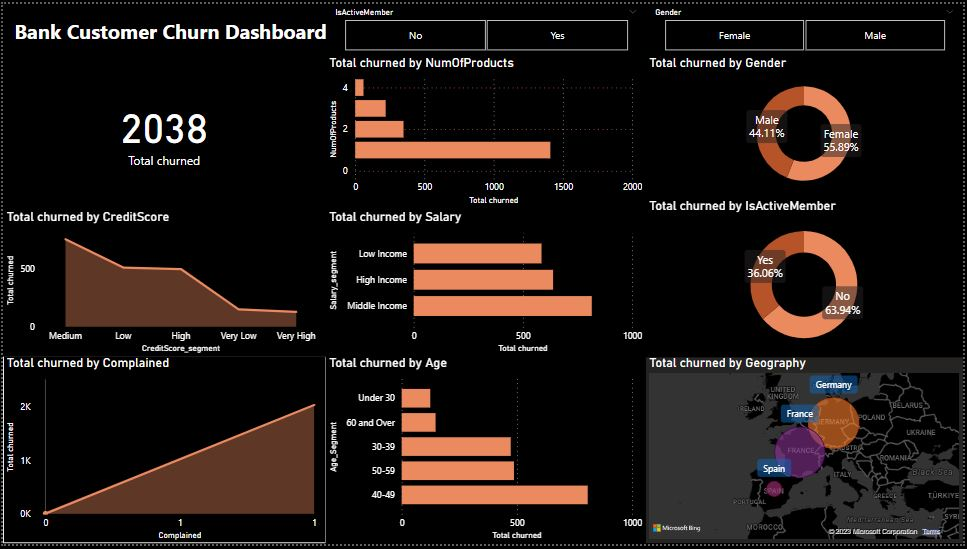

What the dashboard file says about the page in this screenshot:
{"tool":"powerbi","page":{"name":"Bank Customer Churn Dashboard","canvas":[1280,720],"ordinal":0},"visuals":[{"type":"barChart","title":"Total churned by NumOfProducts","fields":{"Category":["customer customer-churn-records.NumOfProducts"],"Y":["Sum(customer customer-churn-records.Exited)"]},"box":[430,68.6,427.1,204.3],"z":0},{"type":"card","fields":{"Values":["Sum(customer customer-churn-records.Exited)"]},"box":[0,68.6,430,204.3],"z":1000},{"type":"map","title":"Total churned by Geography","fields":{"Category":["customer customer-churn-records.Geography"],"Size":["Sum(customer customer-churn-records.Exited)"]},"box":[857.1,468.6,422.9,250],"z":2000},{"type":"donutChart","title":"Total churned by Gender","fields":{"Category":["customer customer-churn-records.Gender"],"Y":["Sum(customer customer-churn-records.Exited)"]},"box":[857.1,68.6,422.9,190],"z":3000},{"type":"areaChart","title":"Total churned by Complained","fields":{"Category":["customer customer-churn-records.Complain"],"Y":["Sum(customer customer-churn-records.Exited)"]},"box":[0,468.6,430,251.4],"z":4000},{"type":"barChart","title":"Total churned by Age","fields":{"Category":["customer customer-churn-records.Age_Segment"],"Y":["Sum(customer customer-churn-records.Exited)"]},"box":[430,468.6,427.1,251.4],"z":5000},{"type":"areaChart","title":"Total churned by CreditScore","fields":{"Category":["customer customer-churn-records.CreditScore_segment"],"Y":["Sum(customer customer-churn-records.Exited)"]},"box":[0,272.9,430,197.1],"z":6000},{"type":"donutChart","title":"Total churned by IsActiveMember","fields":{"Category":["customer customer-churn-records.IsActiveMember"],"Y":["Sum(customer customer-churn-records.Exited)"]},"box":[857.1,258.6,422.9,212.9],"z":7000},{"type":"barChart","title":"Total churned by Salary","fields":{"Y":["Sum(customer customer-churn-records.Exited)"],"Category":["customer customer-churn-records.Salary_segment"]},"box":[430,272.9,427.1,197.1],"z":8000},{"type":"textbox","box":[10,12.9,544.3,55.7],"z":9000},{"type":"slicer","fields":{"Values":["customer customer-churn-records.Gender"]},"box":[857.1,0,422.9,68.6],"z":10000},{"type":"slicer","fields":{"Values":["customer customer-churn-records.IsActiveMember"]},"box":[430,0,427.1,68.6],"z":11000}]}

Visuals, with their boxes in screenshot pixels (x1, y1, x2, y2), scaled from the page's 1280x720 canvas onto the 967x549 screenshot:
"Total churned by NumOfProducts" barChart: BBox(325, 52, 648, 208)
card - Sum(customer customer-churn-records.Exited): BBox(0, 52, 325, 208)
"Total churned by Geography" map: BBox(648, 357, 966, 548)
"Total churned by Gender" donutChart: BBox(648, 52, 966, 197)
"Total churned by Complained" areaChart: BBox(0, 357, 325, 548)
"Total churned by Age" barChart: BBox(325, 357, 648, 548)
"Total churned by CreditScore" areaChart: BBox(0, 208, 325, 358)
"Total churned by IsActiveMember" donutChart: BBox(648, 197, 966, 360)
"Total churned by Salary" barChart: BBox(325, 208, 648, 358)
textbox: BBox(8, 10, 419, 52)
slicer - customer customer-churn-records.Gender: BBox(648, 0, 966, 52)
slicer - customer customer-churn-records.IsActiveMember: BBox(325, 0, 648, 52)
